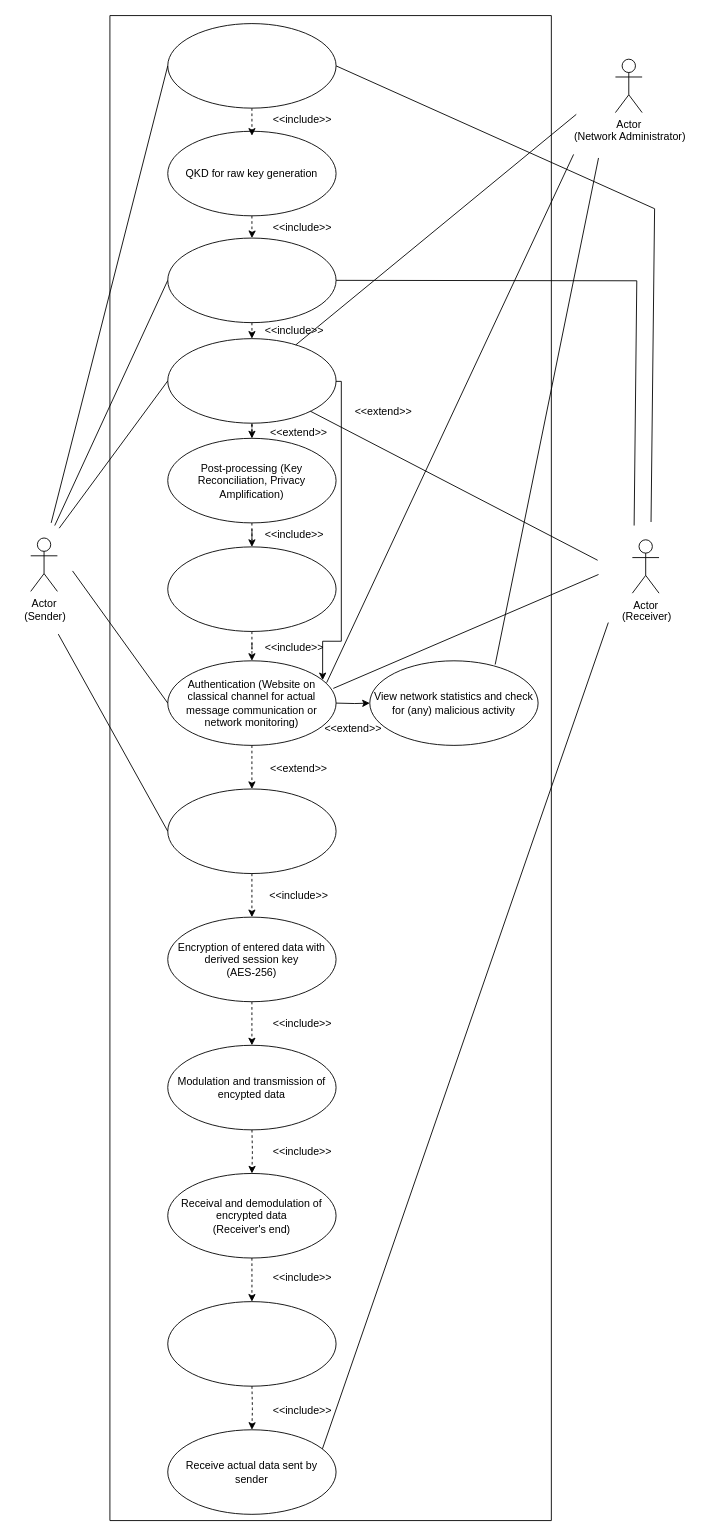
Some shapes in this 708 by 1536 pixel diagram are drawn without their labels. The shapes that lost their labels are listed below. From the top down, each one's centre as x and y in pixels, then its label:
point 251,65: Authentication (Quantum Channel)
point 251,280: Quantum-to-Classical transfer of raw key data (including relevant parameters)
point 251,380: Authentication (Classical Channel)
point 251,588: Key Derivation Function (KDF) for session key generation
point 251,831: Enter data to be transmitted (Sender's end)
point 251,1343: Decryption of encrypted data using derived shared session key
